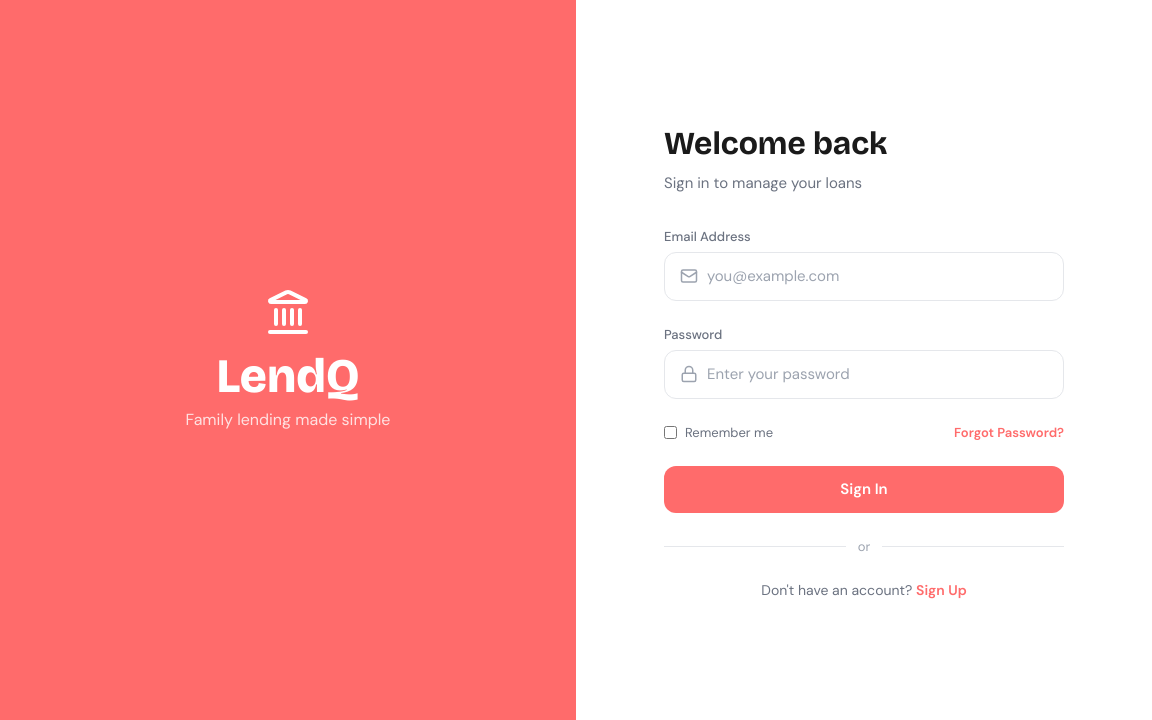
Test: LoginPage › shows inline validation when submitted with empty credentials
Click the button "Sign In": (864, 489) [664, 466, 1064, 512]
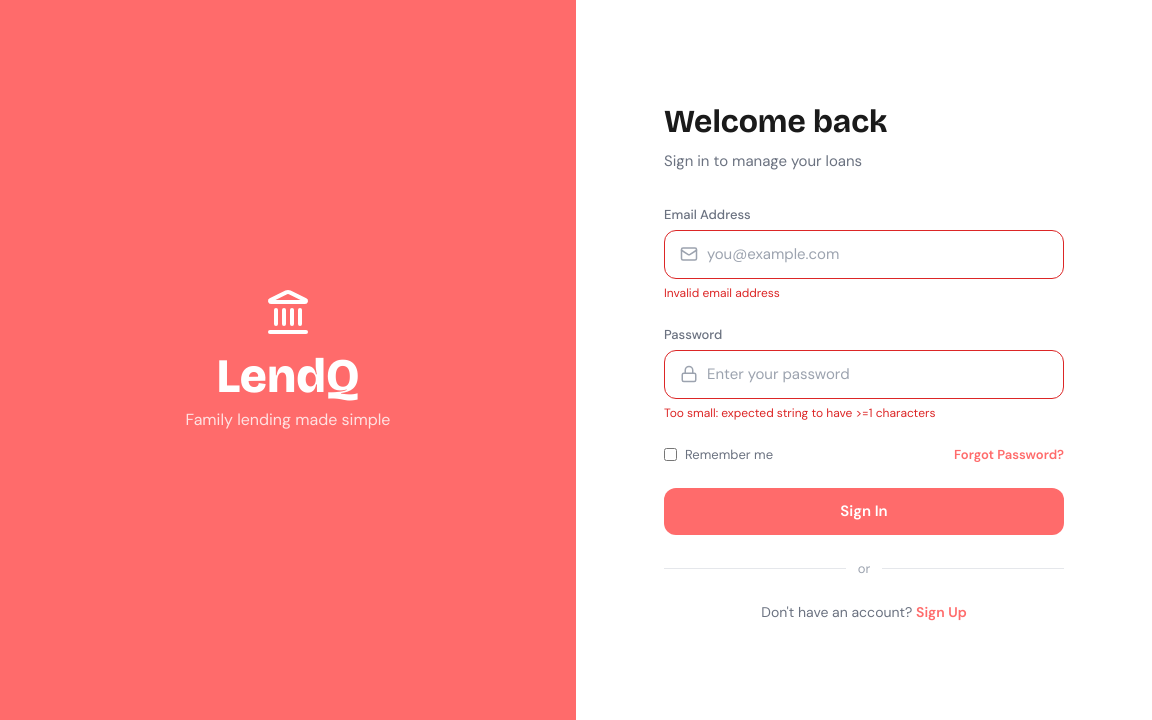
Result: the text "Invalid email address" is shown at [664, 284, 780, 300]
Result: the text "Too small: expected string to have >=1 characters" is shown at [664, 404, 935, 420]
